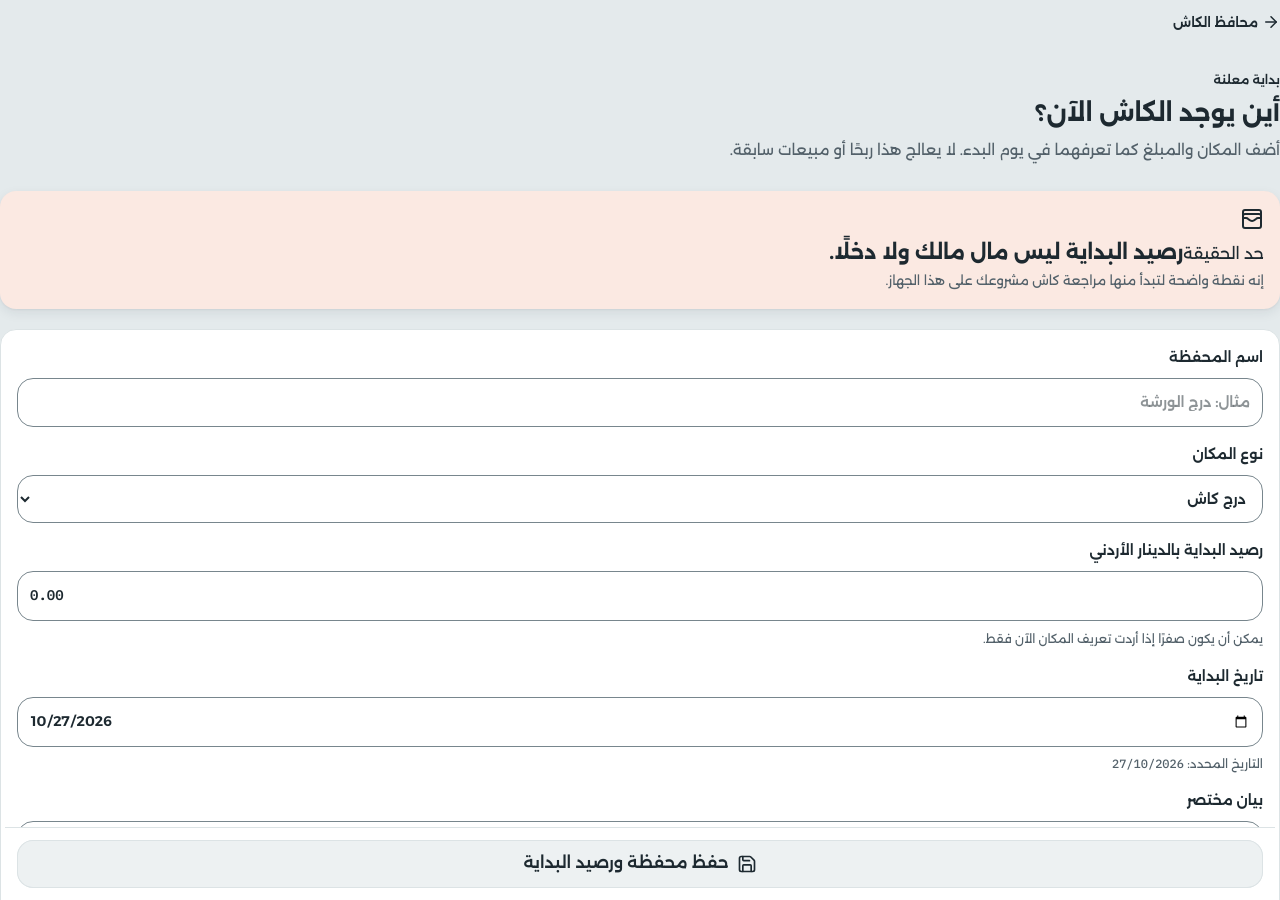
Scenario: CashWalletEditor — direct page-boundary behavior (R9-W3) › blocks the save at the validation gate without touching the store or navigating
Click the button "حفظ محفظة ورصيد البداية": (640, 864) [17, 840, 1263, 888]
(page scrolled)
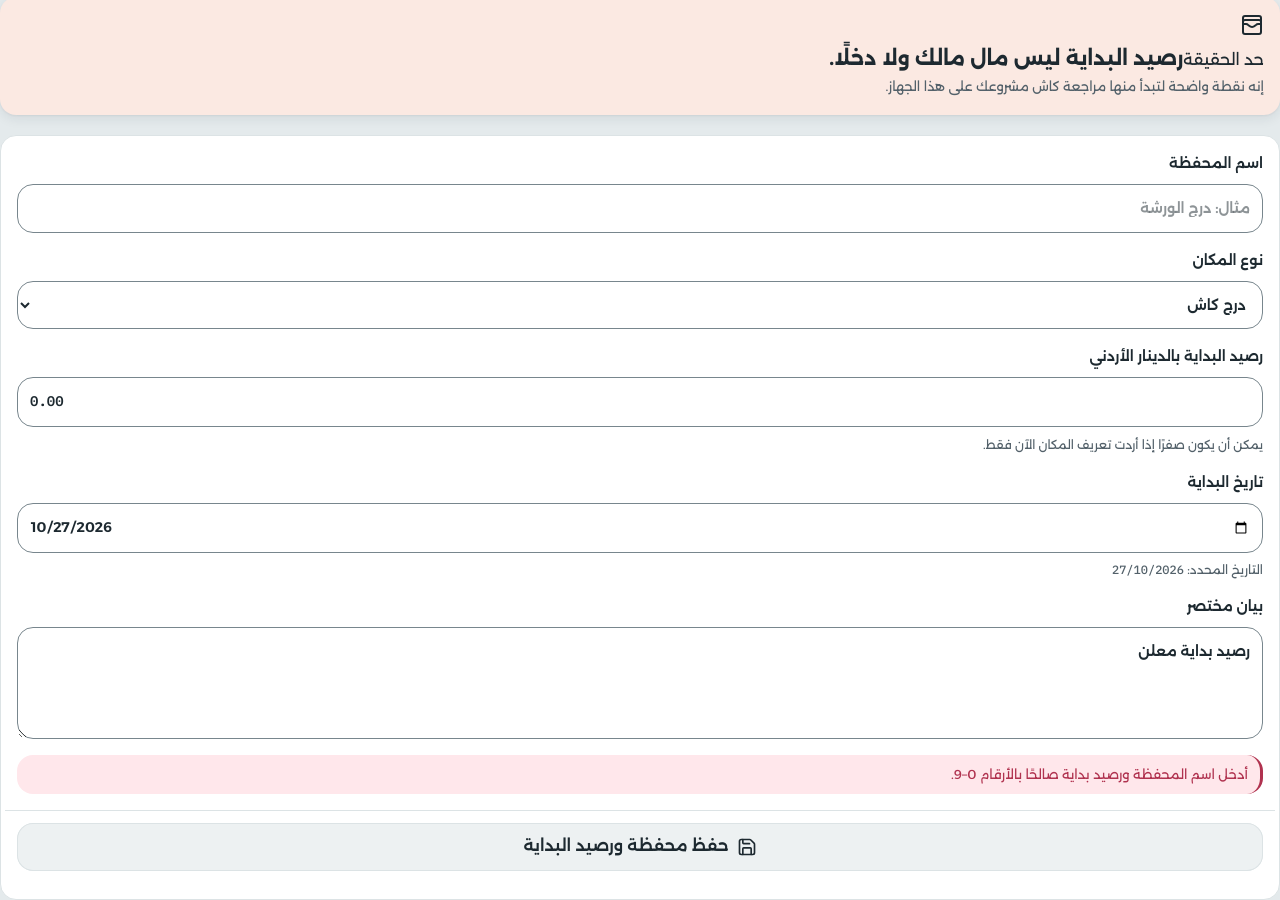
Result: the text "أدخل اسم المحفظة ورصيد بداية صالحًا بالأرقام 0–9." is shown at [17, 755, 1263, 794]
